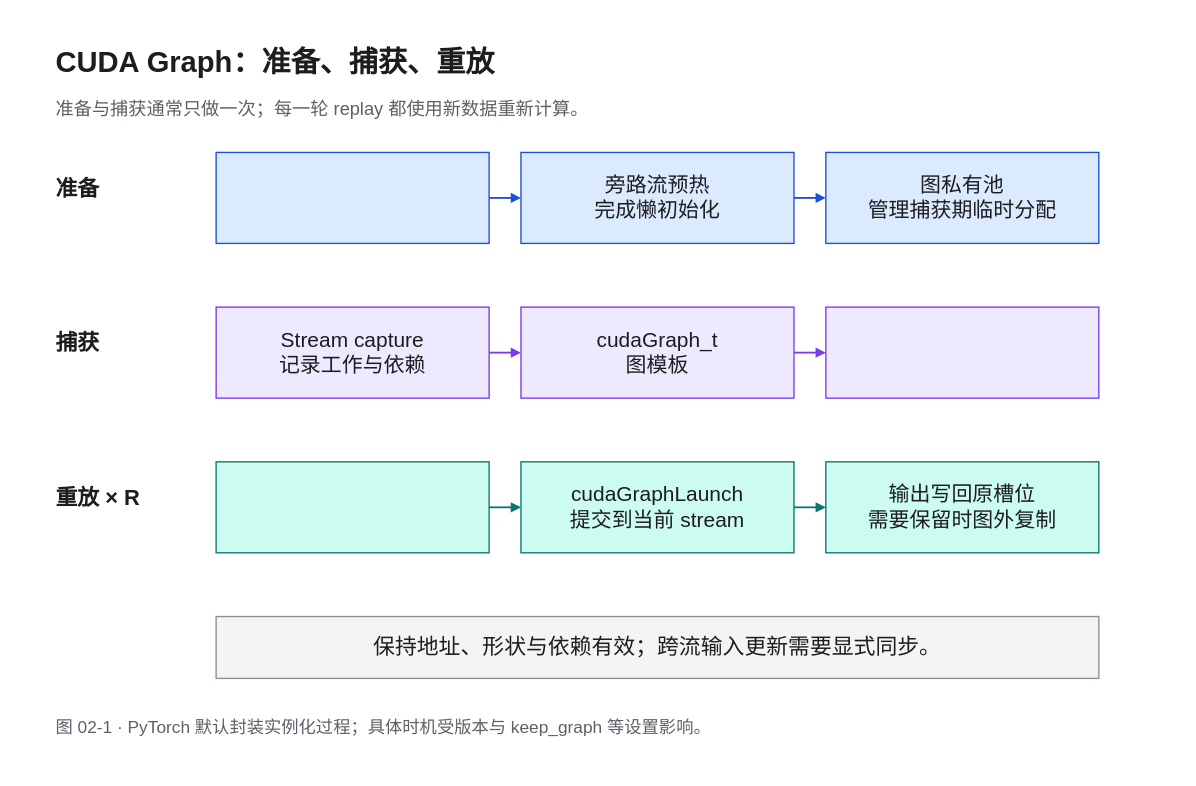
Image size: 1196x786. Some labels were removed from this diagram. The shapes that lost their labels are listed below. From the top down, each one's centre as x and y in pixels, then its label:
pixel 352 197: 保留输入与权重 使用稳定地址
pixel 962 352: Instantiate cudaGraphExec_t
pixel 352 507: copy_ 新输入 写回原缓冲区
